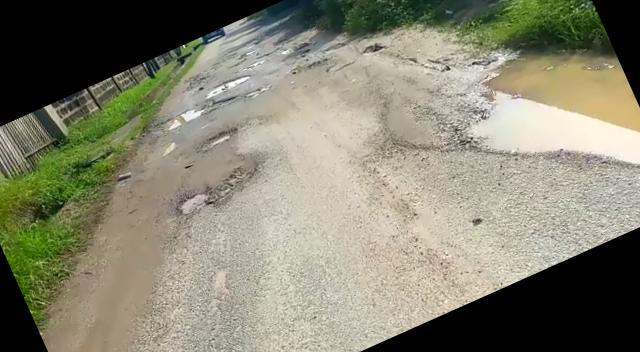pothole: (438, 16, 640, 239), (169, 165, 255, 220), (150, 101, 210, 138), (202, 70, 252, 99), (191, 124, 238, 154)
